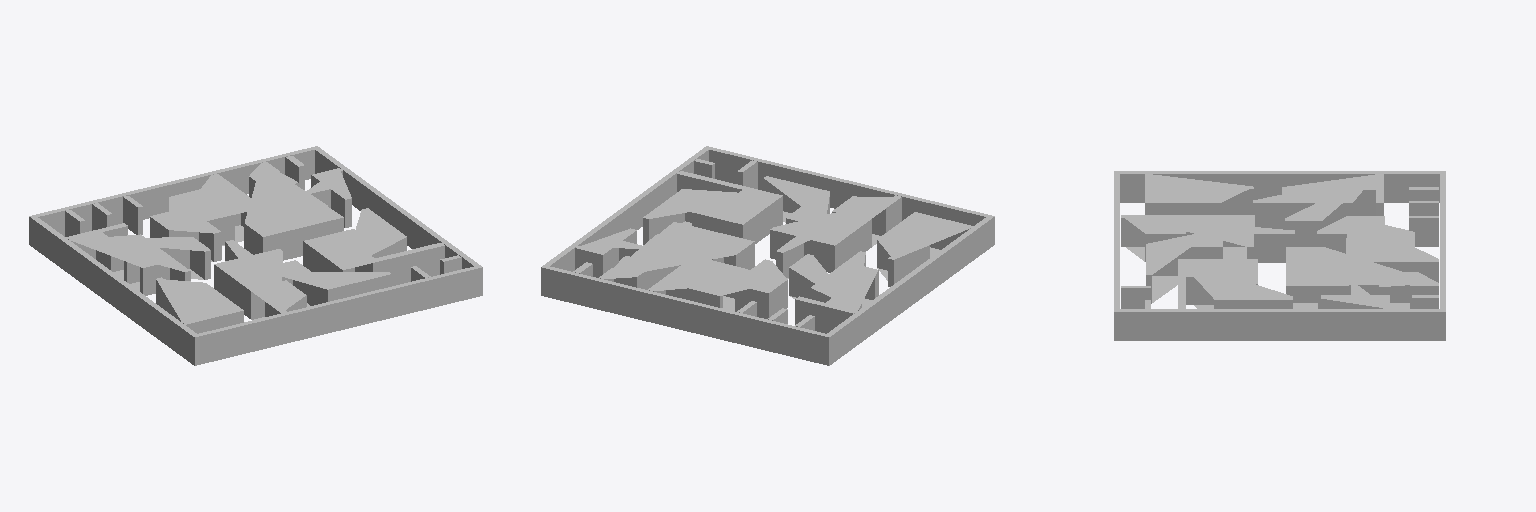
The model's file is Level beech wali.obj.
3 views of the same model, side by side, from view 1: azimuth 30°, elevation 25°; view 2: azimuth 150°, elevation 25°; view 3: azimuth 270°, elevation 25° (orthographic).
Visible parts, largest first — view 1: Plane.001, Plane.010, Plane.006, Plane.002, Plane.011, Plane.004, Plane.003, Plane.005, Plane.008, Plane.007; view 2: Plane.001, Plane.006, Plane.004, Plane.011, Plane.010, Plane.002, Plane.003, Plane.005, Plane.008; view 3: Plane.001, Plane.010, Plane.002, Plane.004, Plane.006, Plane.011, Plane.003, Plane.005, Plane.008, Plane.007, Plane.014.
Boxes of the visible parts, x1,y1,x2,y2 form: Plane.001: [29, 146, 482, 365]; Plane.010: [244, 162, 343, 260]; Plane.006: [303, 208, 444, 285]; Plane.002: [66, 223, 210, 295]; Plane.011: [150, 174, 263, 261]; Plane.004: [214, 240, 306, 319]; Plane.003: [156, 277, 243, 333]; Plane.005: [261, 260, 391, 306]; Plane.008: [306, 168, 351, 227]; Plane.007: [123, 196, 142, 234]; Plane.001: [541, 146, 994, 365]; Plane.006: [643, 171, 782, 244]; Plane.004: [770, 195, 901, 278]; Plane.011: [648, 256, 787, 318]; Plane.010: [599, 222, 754, 289]; Plane.002: [789, 251, 878, 333]; Plane.003: [877, 212, 972, 286]; Plane.005: [763, 176, 829, 226]; Plane.008: [575, 228, 641, 277]; Plane.001: [1114, 171, 1445, 340]; Plane.010: [1286, 247, 1438, 308]; Plane.002: [1253, 174, 1383, 246]; Plane.004: [1121, 215, 1294, 262]; Plane.006: [1178, 259, 1292, 308]; Plane.011: [1317, 216, 1438, 282]; Plane.003: [1145, 174, 1253, 214]; Plane.005: [1146, 230, 1222, 303]; Plane.008: [1321, 285, 1389, 308]; Plane.007: [1409, 216, 1438, 246]; Plane.014: [1121, 286, 1150, 308].
Bounding box in the file's own units: 2.52 × 0.2381 × 2.51.